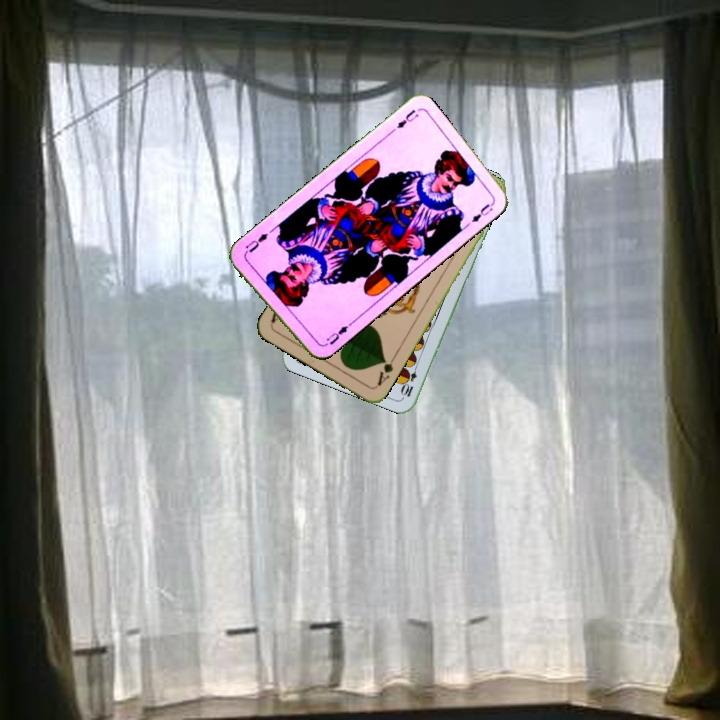E10: (398, 359, 420, 399)
EU: (322, 320, 353, 348), (393, 105, 421, 131)
GA: (372, 352, 398, 389)
